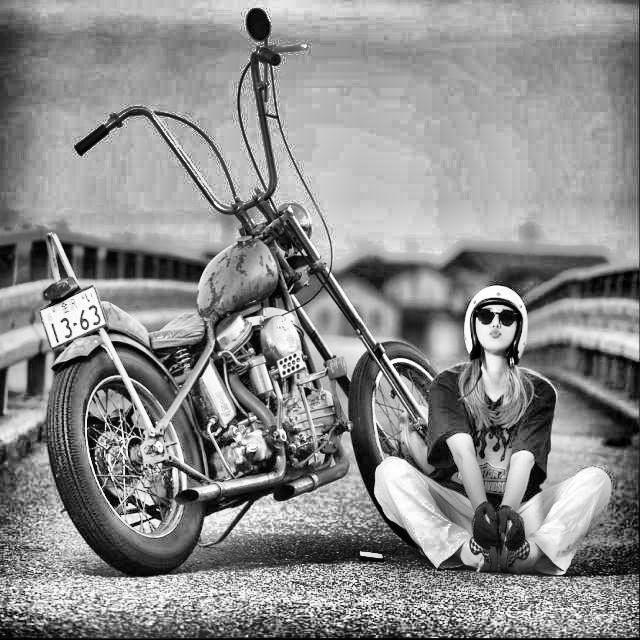Helmet: (454, 282, 532, 404)
